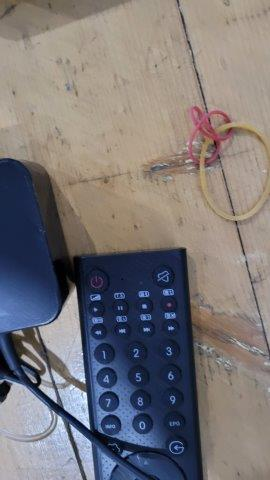karet: (189, 107, 270, 224)
